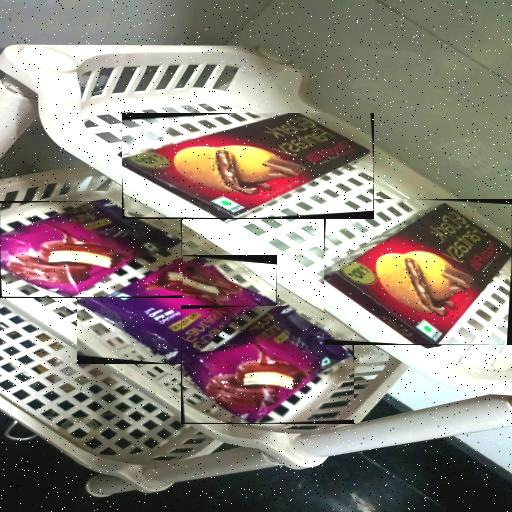Choco Fills: (324, 199, 512, 345), (122, 113, 374, 219)
Choco Pie: (76, 255, 276, 364), (181, 306, 354, 424), (0, 201, 182, 298)
